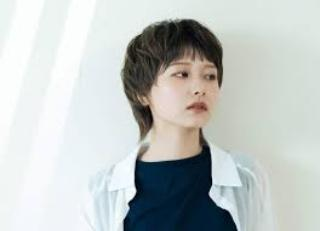person - v3 P: (84, 6, 276, 231)
